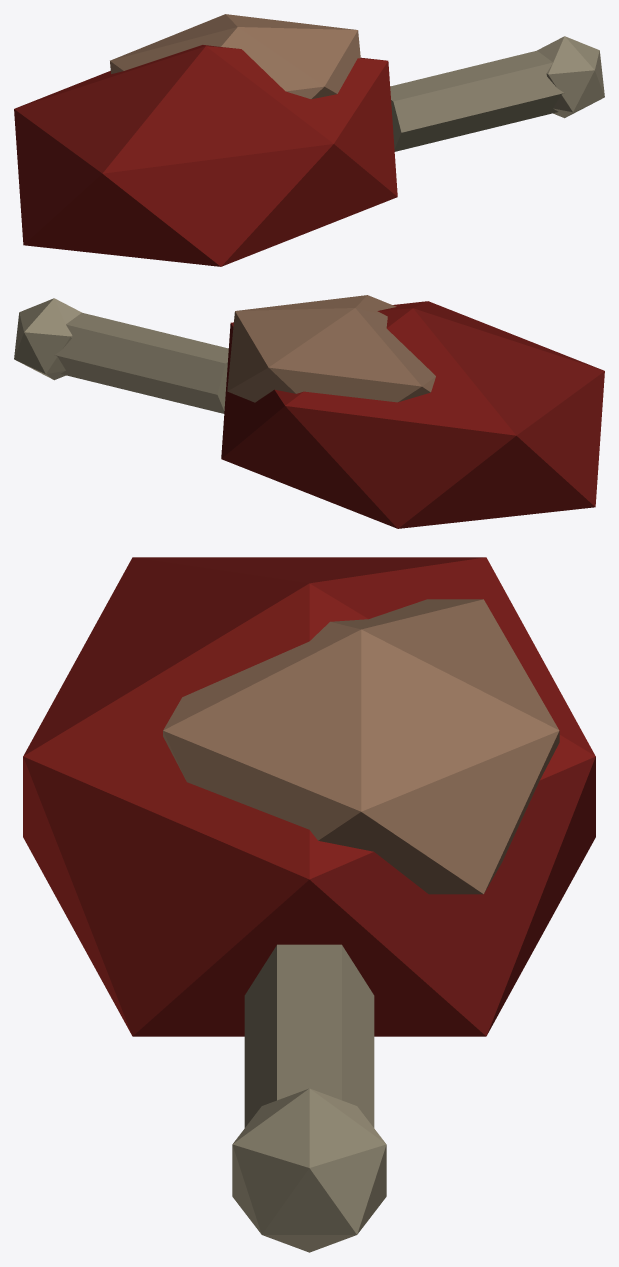
Rendered from hound_meat.glb.
3 renders of one model, top to bottom at view 1: azimuth 30°, elevation 25°; view 2: azimuth 150°, elevation 25°; view 3: azimuth 270°, elevation 25°, orthographic. The views are drawn at different scales.
Visible parts, largest first — view 1: HoundMeat; view 2: HoundMeat; view 3: HoundMeat.
Boxes of the visible parts, left/top/right/bottom form: HoundMeat: left=14, top=14, right=604, bottom=266; HoundMeat: left=14, top=295, right=604, bottom=528; HoundMeat: left=23, top=557, right=595, bottom=1252.
Size of the model in its own units: 0.5141 by 0.182 by 0.2212.
